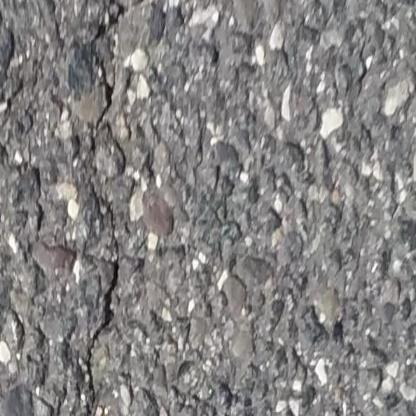Cracks: (83, 172, 126, 410), (87, 0, 156, 143)
